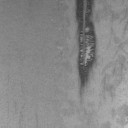oxide scale of plate system: (73, 0, 98, 91)
